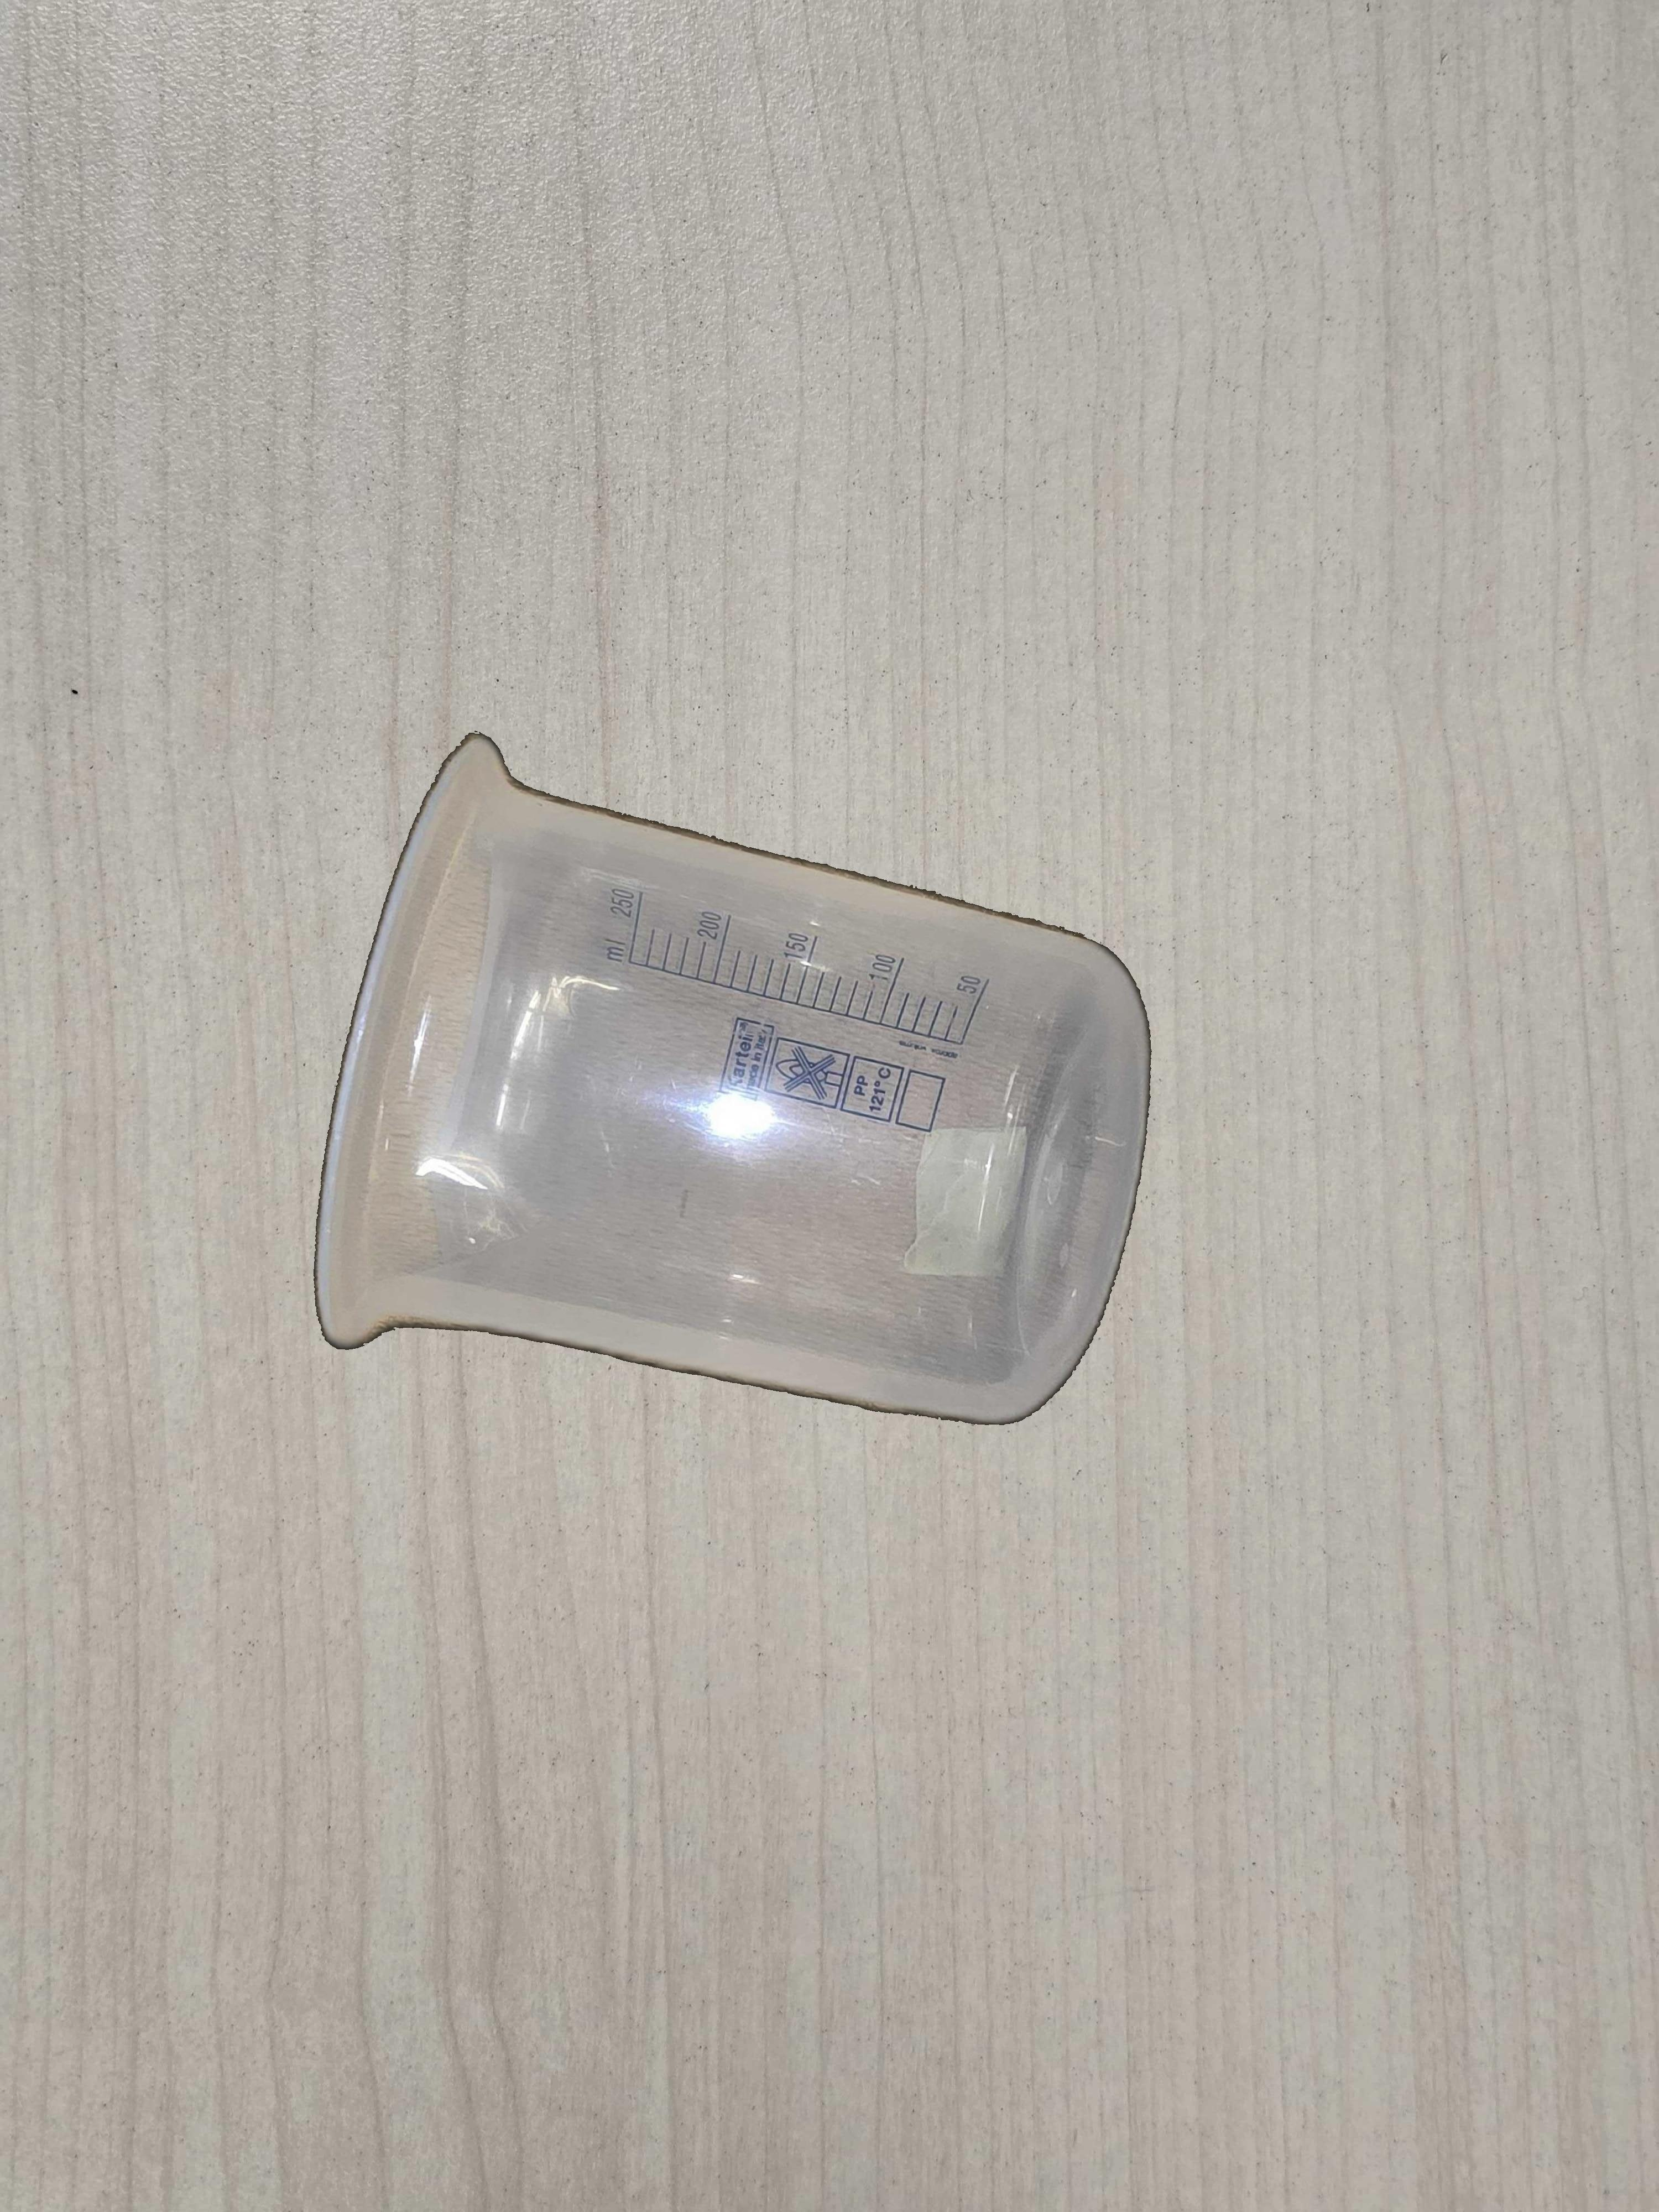becker: (310, 733, 1152, 1432)
